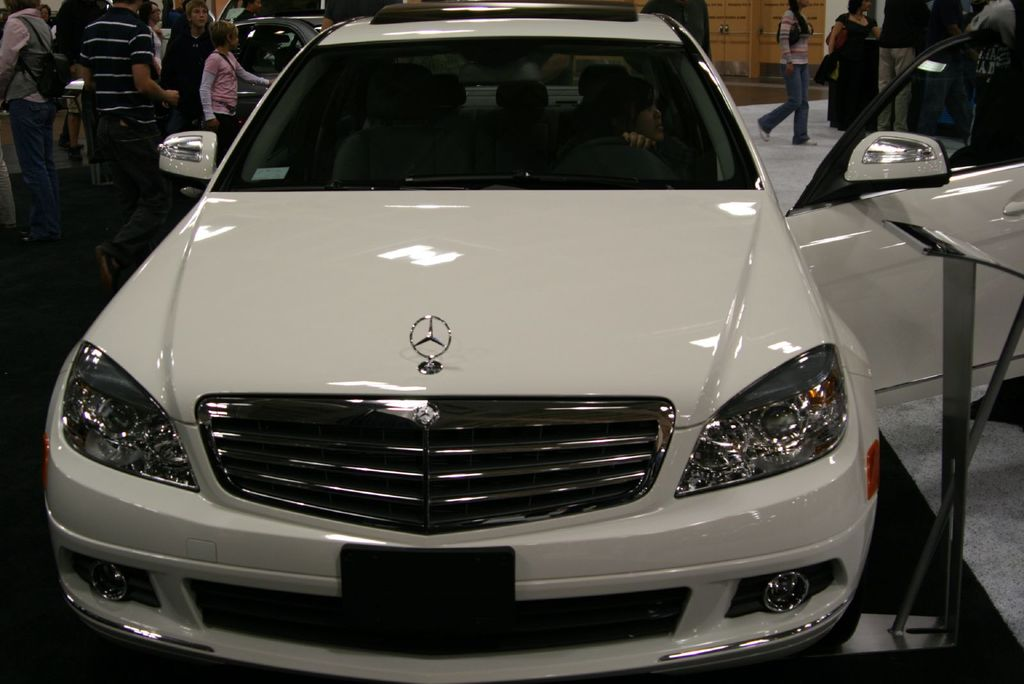Person: (759, 3, 1024, 431), (0, 0, 276, 288)
